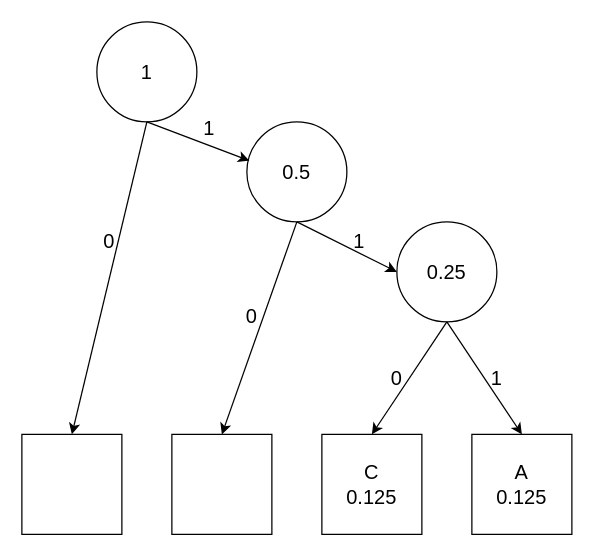
This 594x556 diagram has some shape labels left out. The shapes that lost their labels are listed below. From the top down, each one's centre as x and y in pixels, then its label:
At point (71, 483): "B 0.5".
At point (221, 483): "D 0.25".
